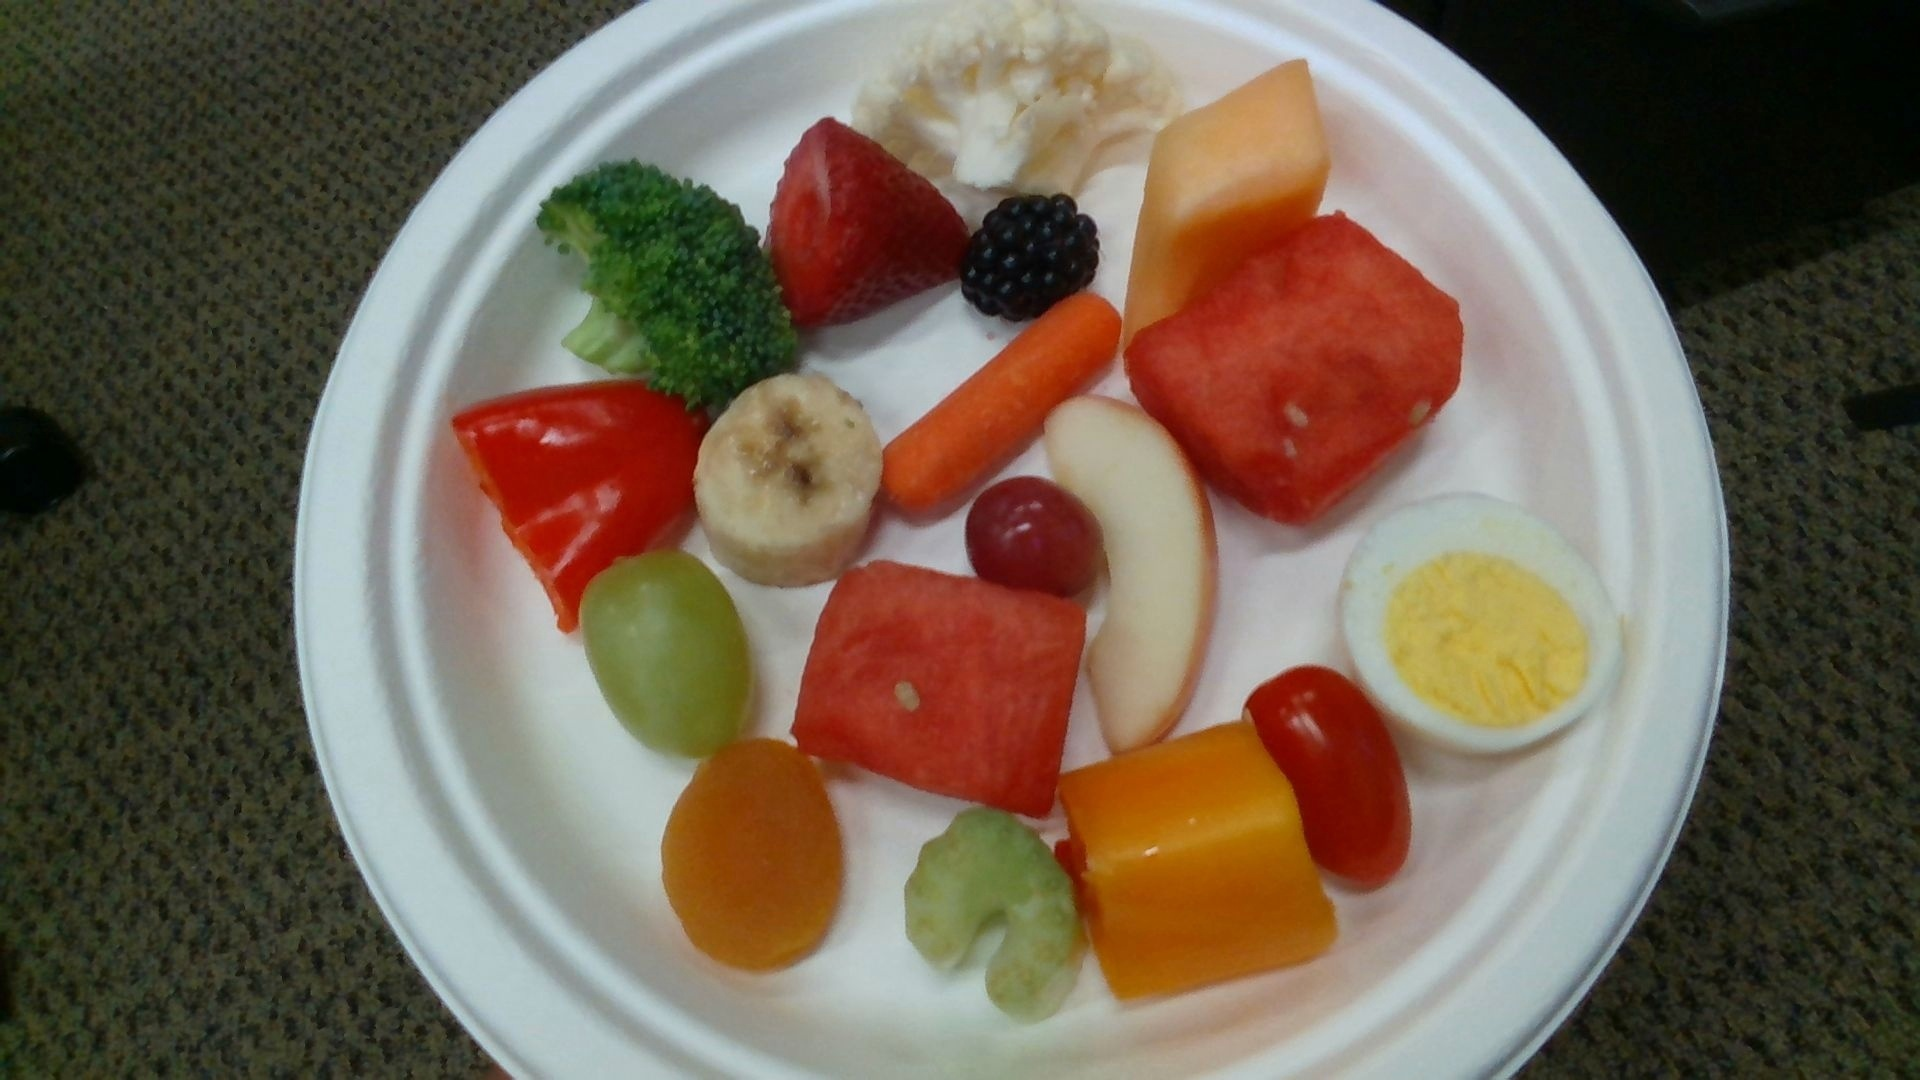apple: (1044, 400, 1215, 750)
apricot: (662, 738, 840, 968)
banana: (695, 378, 880, 578)
bell_pepper: (1058, 728, 1337, 1001), (450, 382, 702, 630)
blackberry: (963, 196, 1097, 315)
broccoli: (541, 164, 796, 398)
cantalope: (1124, 58, 1329, 351)
carrot: (885, 293, 1120, 508)
cauliflower: (851, 1, 1180, 196)
celery: (907, 810, 1072, 1011)
cherry_tomato: (1244, 669, 1410, 891)
egg: (1340, 495, 1625, 748)
grape_green: (580, 551, 749, 750)
grape_purple: (965, 477, 1104, 591)
melon: (1129, 214, 1465, 525), (794, 563, 1087, 816)
strawberry: (770, 121, 972, 320)
